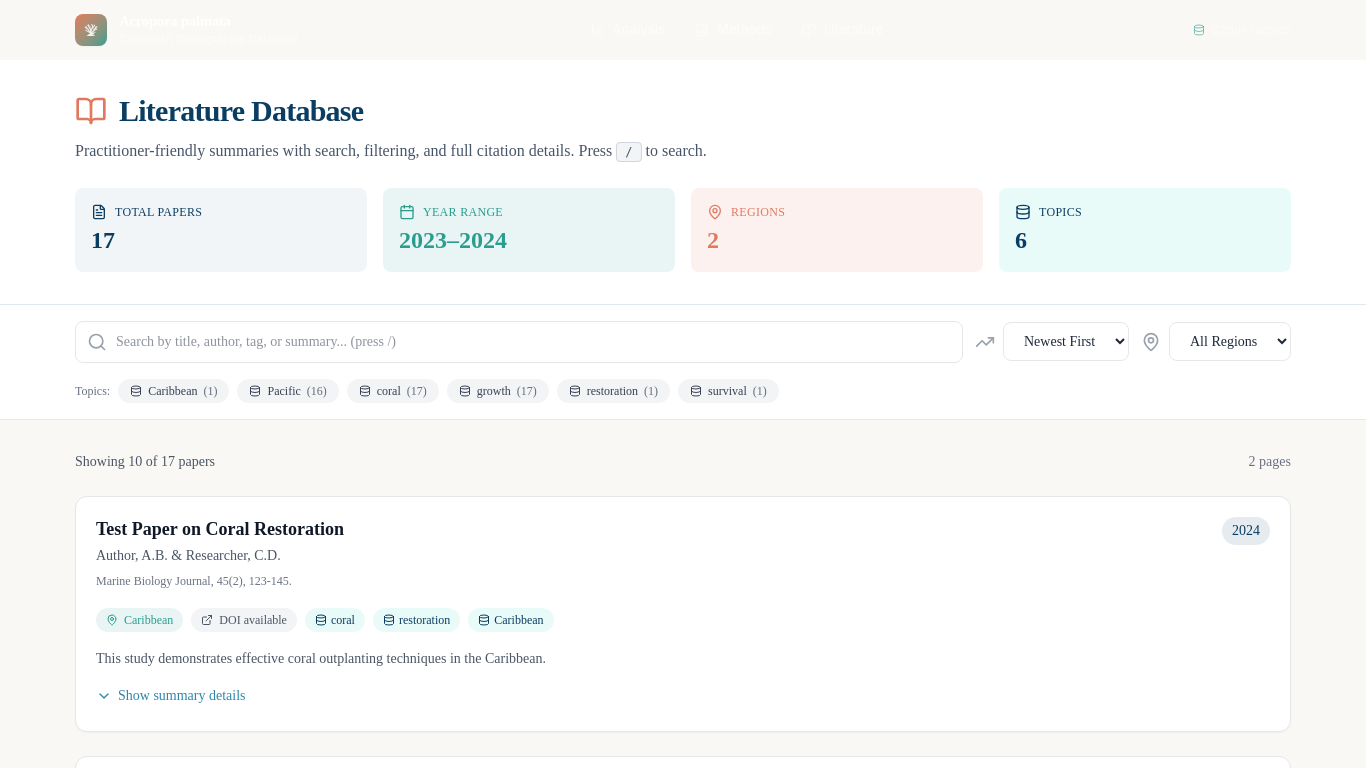
Literature Page Integration Tests › Filter Functionality › should clear all filters when clear button is clicked
The image size is (1366, 768).
Expected: the heading "Test Paper on Coral Restoration" is shown, x1=96 y1=518 x2=344 y2=538
# Apply search filter
Type "test" into the field named "Search publications" at (519, 342), box x1=75 y1=320 x2=963 y2=362
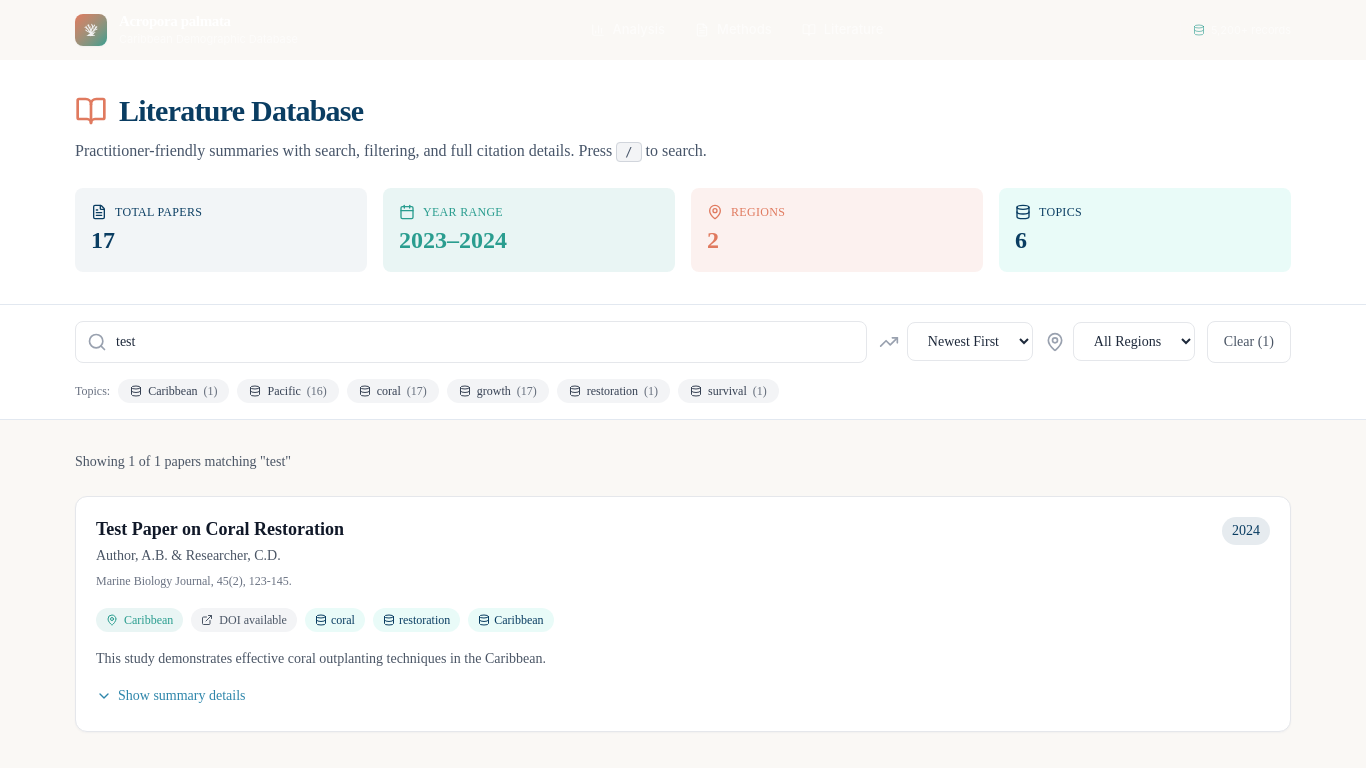
Expected: the button "Clear (1)" is shown
Click the button "Clear (1)" at (1249, 342), box x1=1207 y1=320 x2=1291 y2=362
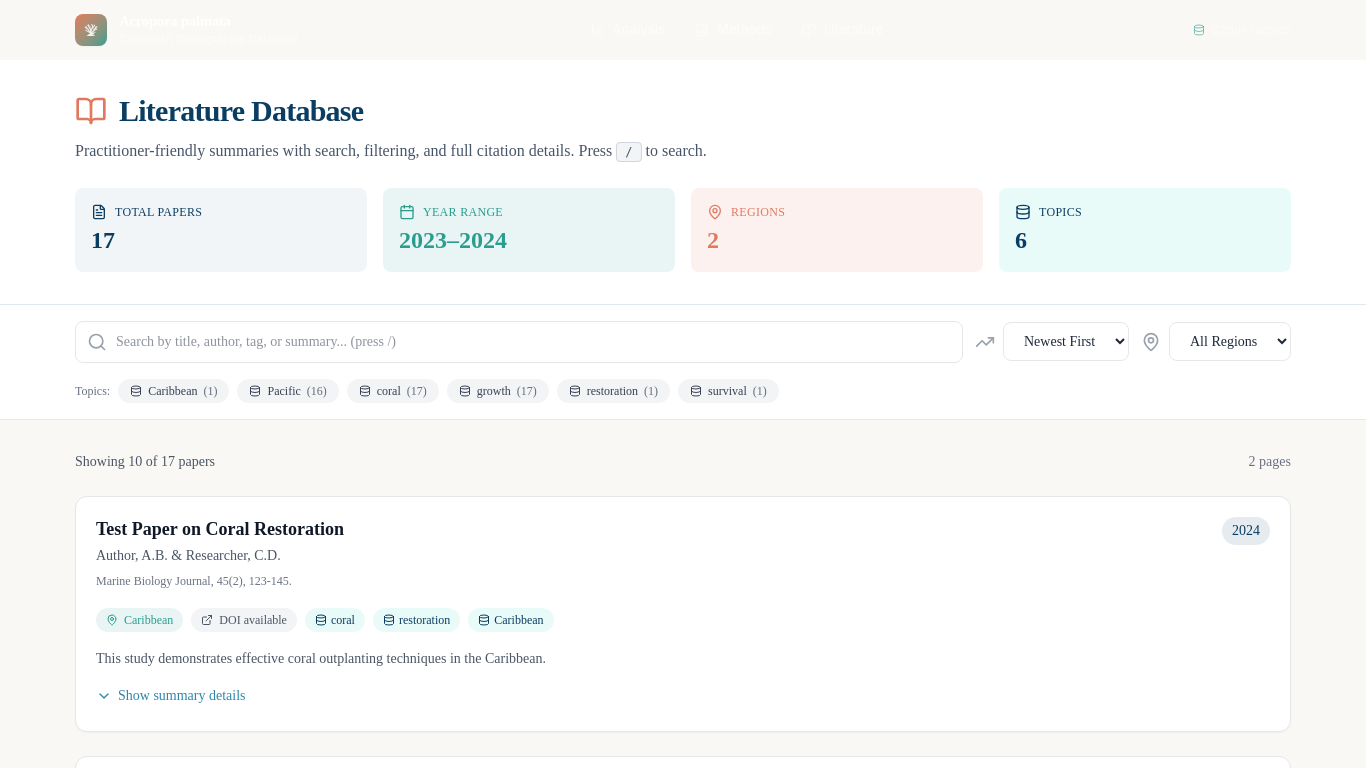
Expected: the field named "Search publications" is empty, x1=75 y1=320 x2=963 y2=362
